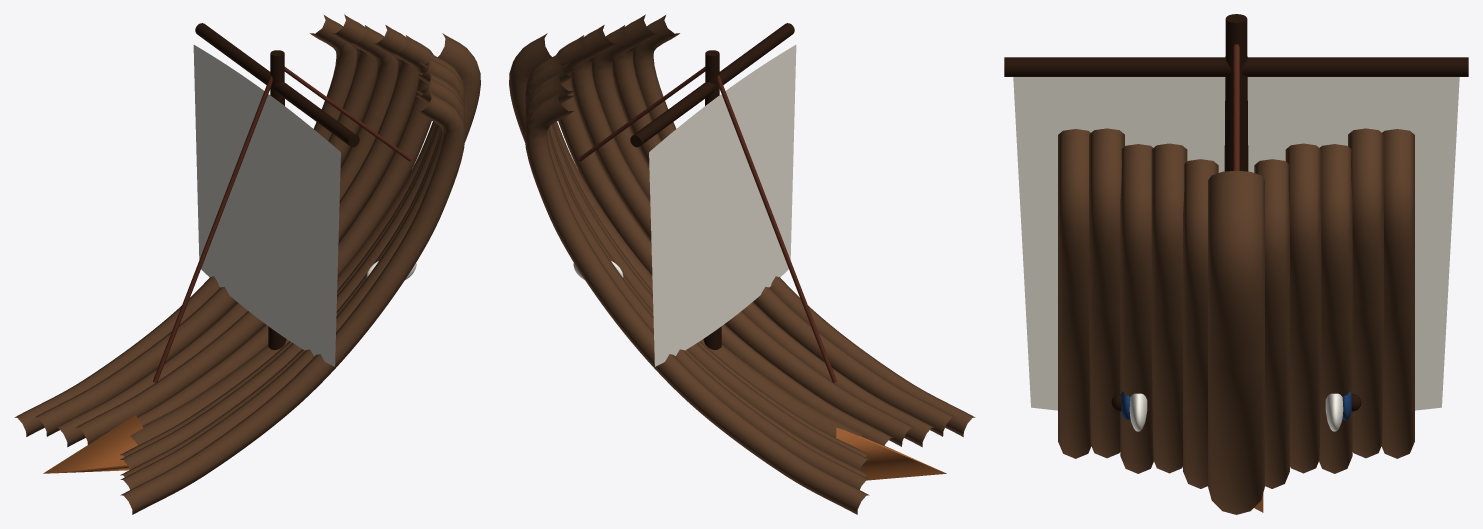
The model's file is odyssey-ship.glb.
3 views of the same model, side by side, from view 1: azimuth 30°, elevation 25°; view 2: azimuth 150°, elevation 25°; view 3: azimuth 270°, elevation 25° (orthographic). The views are drawn at different scales.
Visible parts, largest first — view 1: homeric-linen-sail, port-plank-4, stbd-plank-1, stbd-plank-3, stbd-plank-0, stbd-plank-2, stem-post, port-plank-3, stbd-plank-4, port-plank-1, ship-yardarm, bronze-ram (+5 smaller); view 2: homeric-linen-sail, stbd-plank-4, port-plank-1, port-plank-0, port-plank-3, port-plank-2, stbd-plank-3, stem-post, port-plank-4, stbd-plank-1, ship-yardarm, bronze-ram (+5 smaller); view 3: homeric-linen-sail, stem-post, stbd-plank-1, port-plank-1, port-plank-3, stbd-plank-3, port-plank-4, stbd-plank-4, port-plank-2, stbd-plank-2, ship-yardarm, port-plank-0 (+5 smaller).
Boxes of the visible parts, x1,y1,x2,y2 form: homeric-linen-sail: (193, 45, 340, 366); port-plank-4: (120, 92, 465, 514); stbd-plank-1: (76, 25, 418, 444); stbd-plank-3: (35, 14, 377, 436); stbd-plank-0: (96, 35, 433, 437); stbd-plank-2: (56, 25, 397, 447); stem-post: (130, 33, 480, 445); port-plank-3: (120, 77, 465, 489); stbd-plank-4: (14, 15, 356, 436); port-plank-1: (120, 57, 464, 469); ship-yardarm: (195, 23, 359, 147); bronze-ram: (43, 415, 142, 473); homeric-linen-sail: (649, 45, 796, 366); stbd-plank-4: (524, 92, 869, 514); port-plank-1: (571, 25, 913, 446); port-plank-0: (556, 35, 893, 445); port-plank-3: (612, 14, 954, 436); port-plank-2: (592, 25, 933, 447); stbd-plank-3: (524, 77, 869, 489); stem-post: (509, 33, 863, 437); port-plank-4: (633, 15, 975, 436); stbd-plank-1: (525, 57, 869, 469); ship-yardarm: (630, 23, 794, 147); bronze-ram: (836, 427, 946, 480); homeric-linen-sail: (1013, 77, 1459, 410); stem-post: (1208, 170, 1264, 514); stbd-plank-1: (1285, 143, 1321, 473); port-plank-1: (1151, 143, 1187, 473); port-plank-3: (1089, 128, 1124, 458); stbd-plank-3: (1348, 128, 1383, 458); port-plank-4: (1058, 129, 1091, 458); stbd-plank-4: (1381, 129, 1414, 458); port-plank-2: (1120, 144, 1153, 473); stbd-plank-2: (1319, 144, 1352, 473); ship-yardarm: (1004, 57, 1468, 76); port-plank-0: (1183, 159, 1218, 488).
Bounding box in the file's own units: 0.92 × 0.789 × 0.5605.
